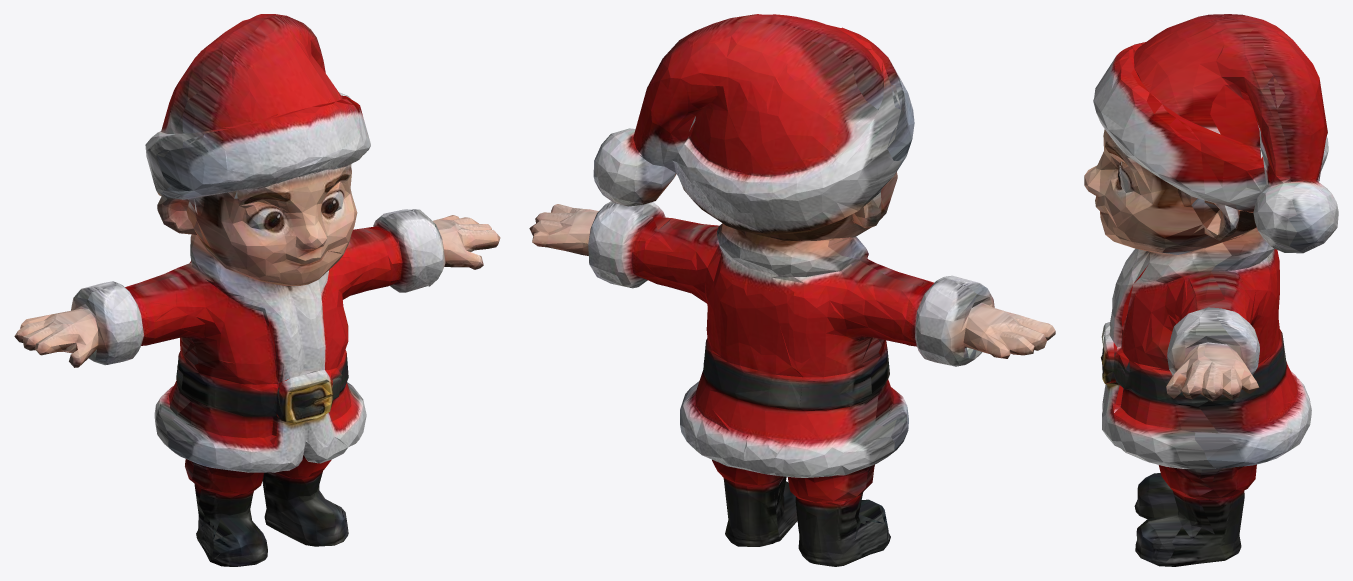
Rendered from v_santa.glb.
3 renders of one model, left to right at view 1: azimuth 30°, elevation 25°; view 2: azimuth 150°, elevation 25°; view 3: azimuth 270°, elevation 25°, orthographic. The views are drawn at different scales.
Visible parts, largest first — view 1: geometry_0; view 2: geometry_0; view 3: geometry_0.
Part boxes in pixels (box(x1,y1,x2,y2)): geometry_0: box(14, 14, 500, 566); geometry_0: box(529, 14, 1055, 566); geometry_0: box(1084, 14, 1338, 566).
Bounding box in the file's own units: 0.9965 × 1 × 0.4438.
1 material, 1 textured.
